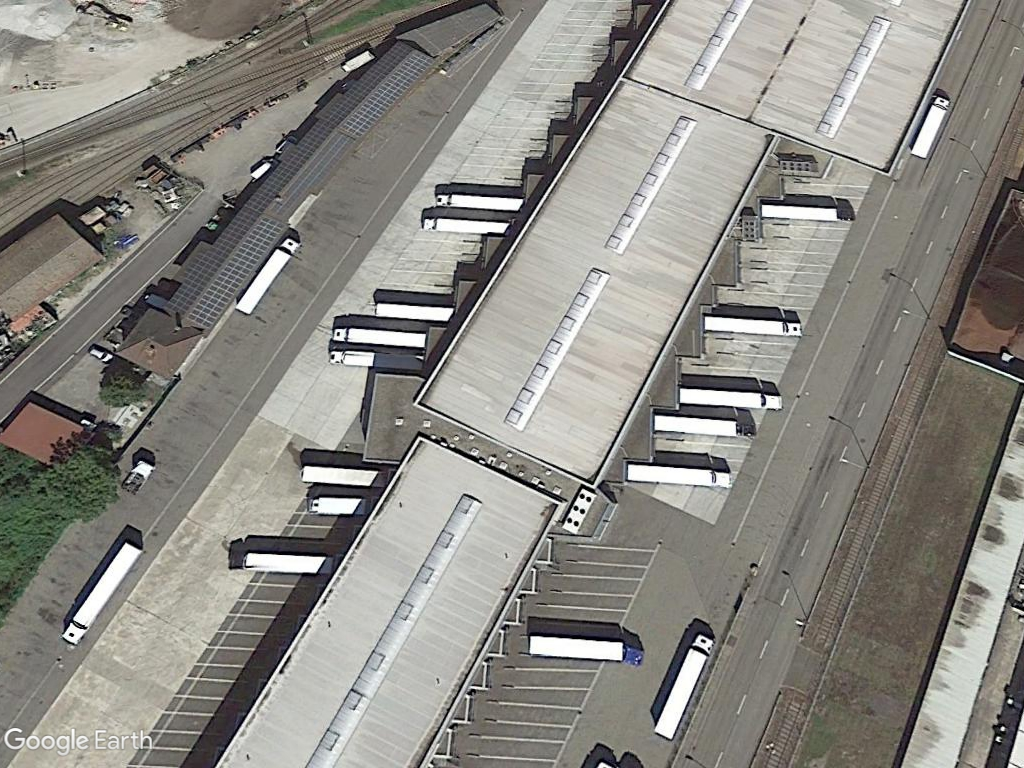longvehicle: (56, 536, 150, 654), (644, 630, 715, 748), (230, 234, 301, 312), (526, 629, 648, 667), (624, 457, 738, 492), (677, 380, 789, 413), (235, 546, 350, 577), (651, 411, 764, 442), (700, 310, 809, 340), (758, 199, 861, 228), (325, 346, 431, 372), (329, 324, 431, 350), (419, 211, 515, 238), (432, 189, 530, 214)
